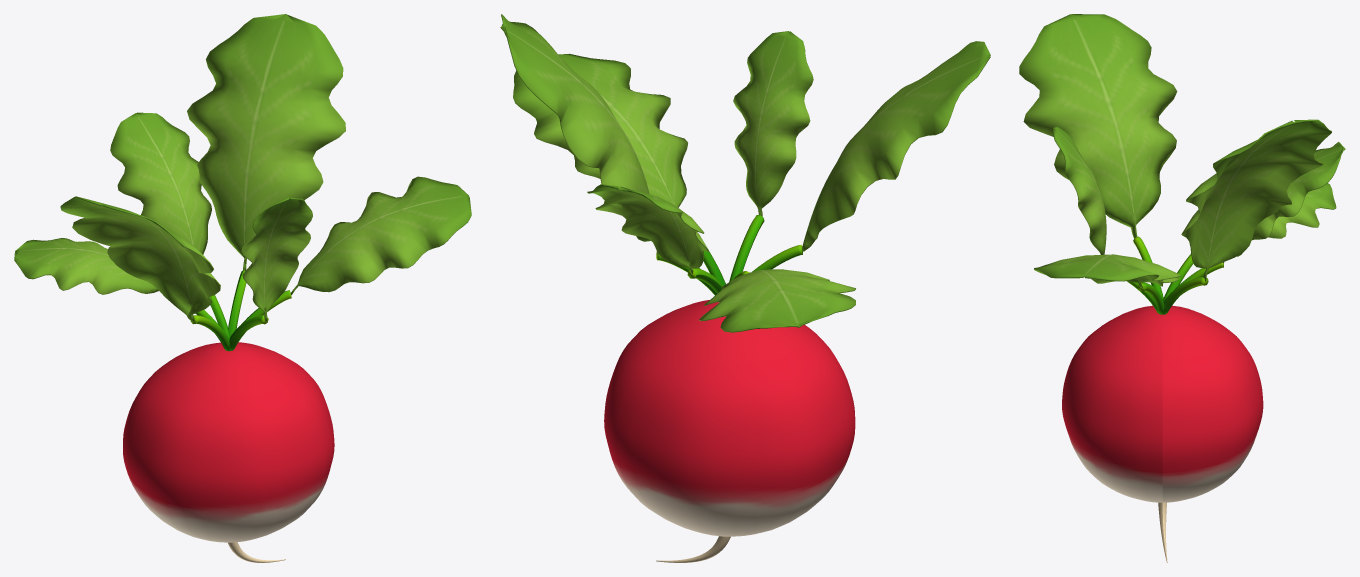
Rendered from NP_Radish_Ready.fbx.
3 renders of one model, left to right at view 1: azimuth 30°, elevation 25°; view 2: azimuth 150°, elevation 25°; view 3: azimuth 270°, elevation 25°, orthographic. The views are drawn at different scales.
Parts seen in each view (by area): view 1: NP_Radish_Ready; view 2: NP_Radish_Ready; view 3: NP_Radish_Ready.
Part boxes in pixels (x1,y1,x2,y2): NP_Radish_Ready: [14, 14, 471, 562]; NP_Radish_Ready: [500, 14, 990, 562]; NP_Radish_Ready: [1019, 14, 1345, 562].
Bounding box in the file's own units: 74.99 × 90.25 × 56.48.
